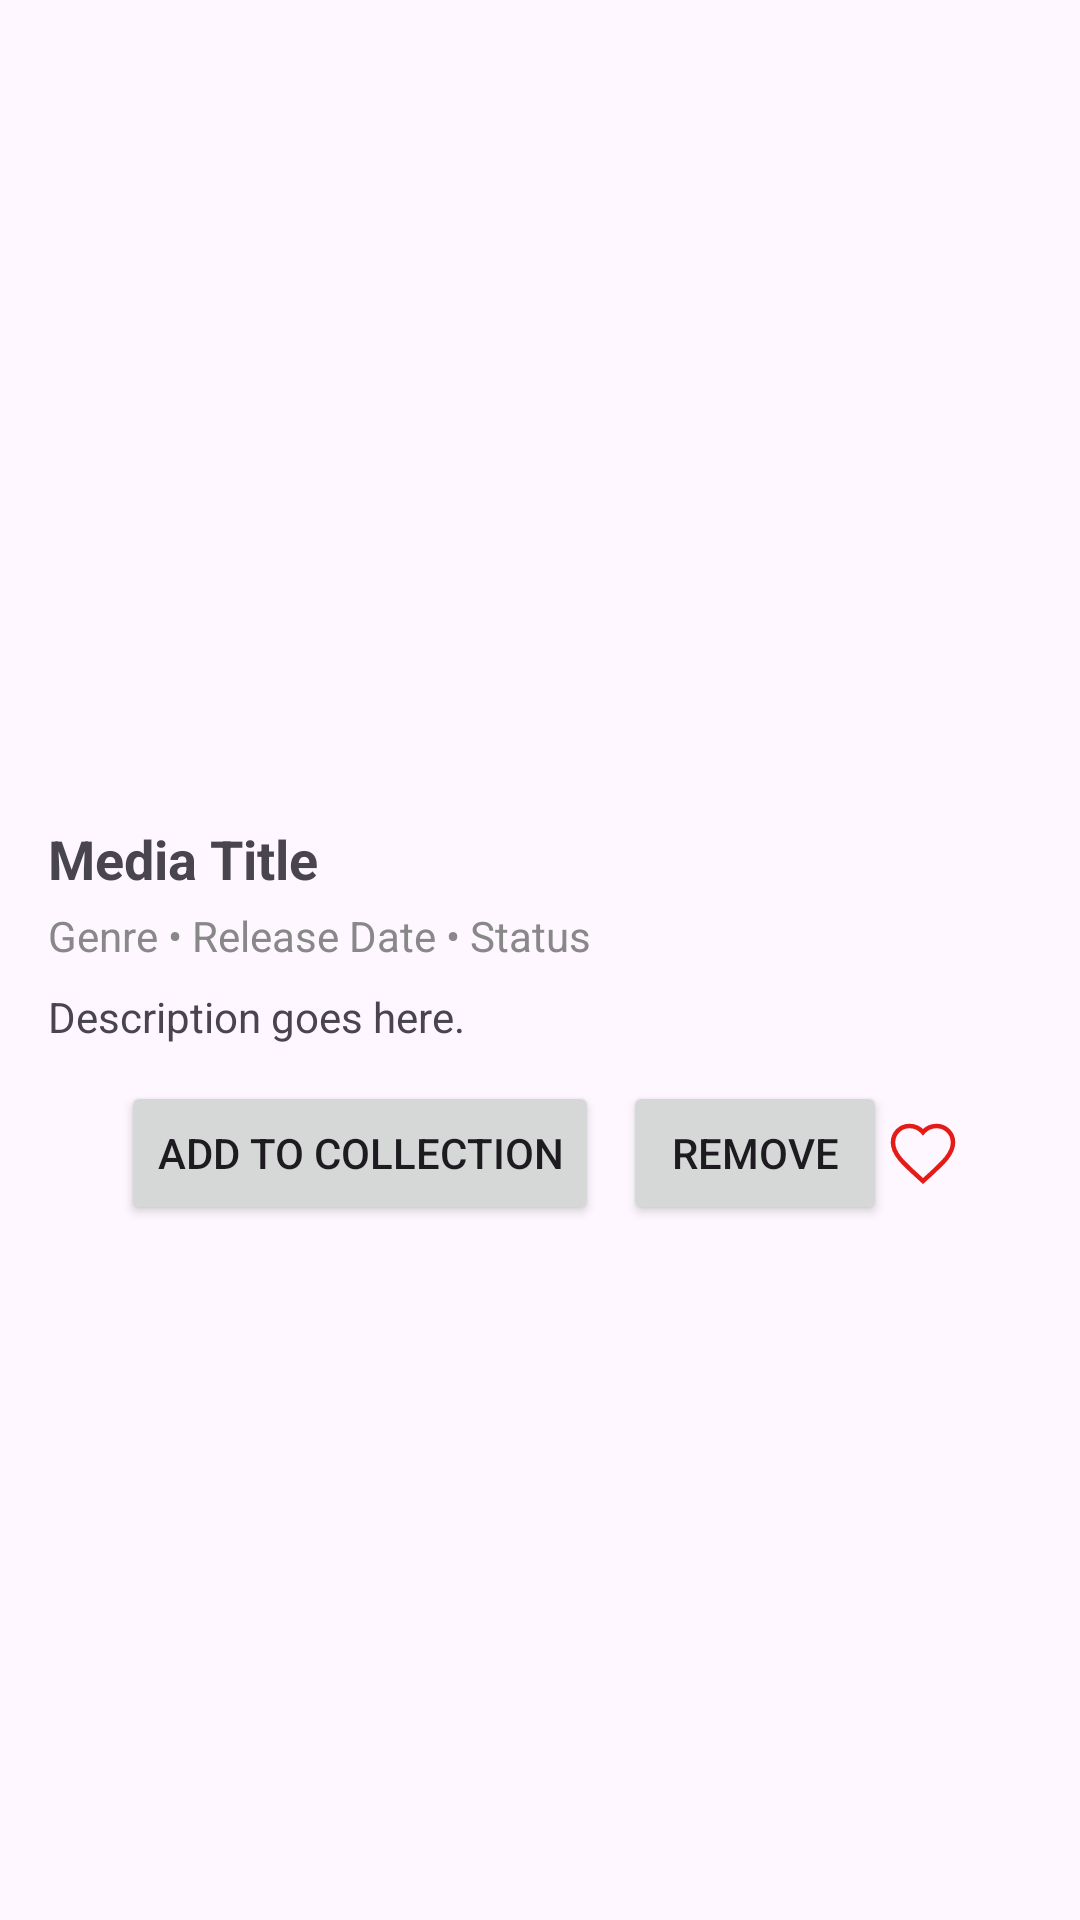

Icons on this 1080 × 1920 Android screen, each with its box as (x1, y1, x2, y2):
Favorite: (890, 1123, 956, 1184)
